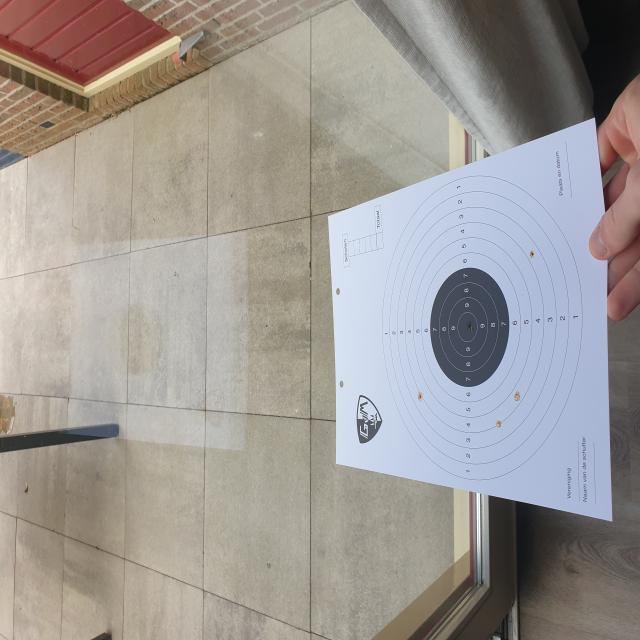10: (466, 320, 474, 332)
3: (530, 250, 536, 259)
4: (513, 391, 521, 402), (496, 419, 502, 429), (417, 392, 423, 402)
Target: (380, 174, 580, 482)
black_contour: (430, 267, 509, 387)
